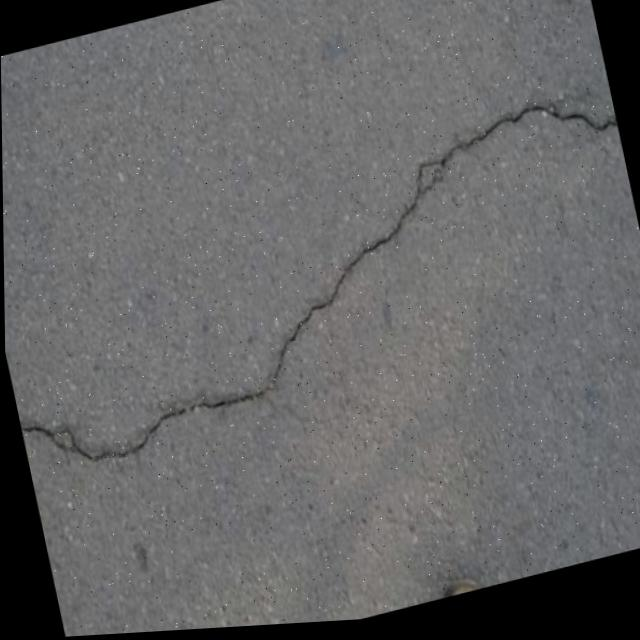Crack: (1, 84, 640, 495)
